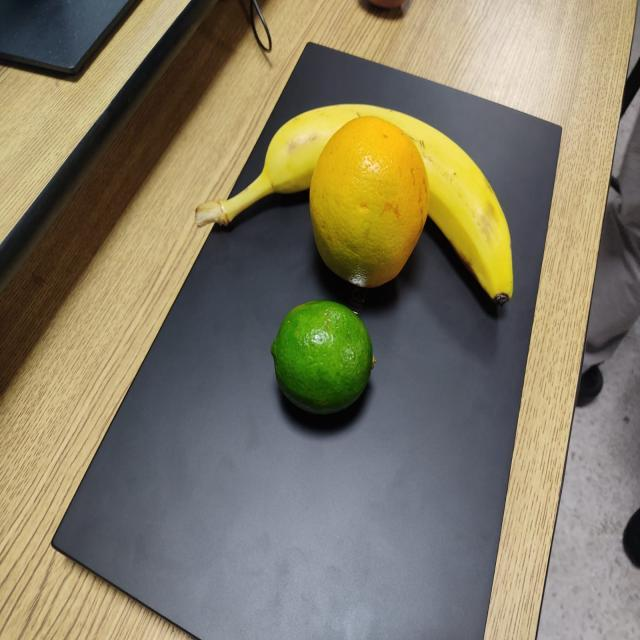Jeruk: (306, 112, 430, 292)
Lemon: (267, 298, 377, 421)
Pisang: (190, 100, 516, 308)
